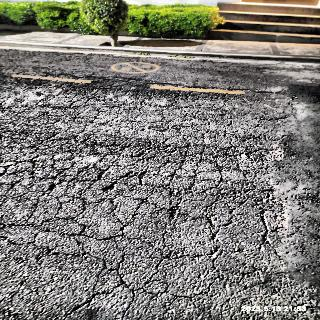alligator-crack: (0, 125, 273, 212), (8, 186, 276, 258), (16, 240, 269, 283)
crack: (28, 67, 256, 104), (42, 283, 245, 304)
